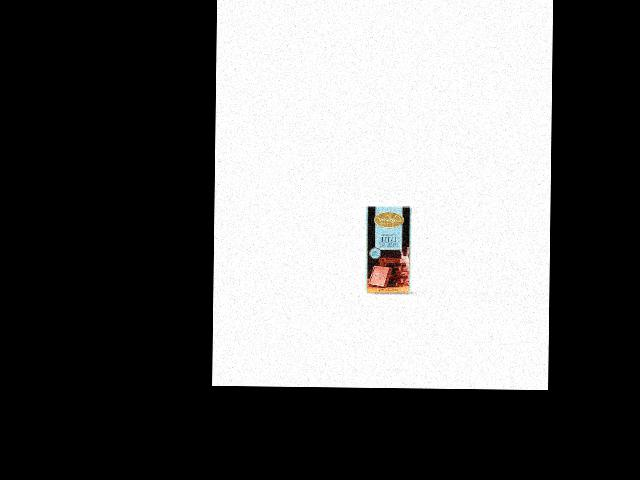chocolate: (364, 205, 413, 294)
